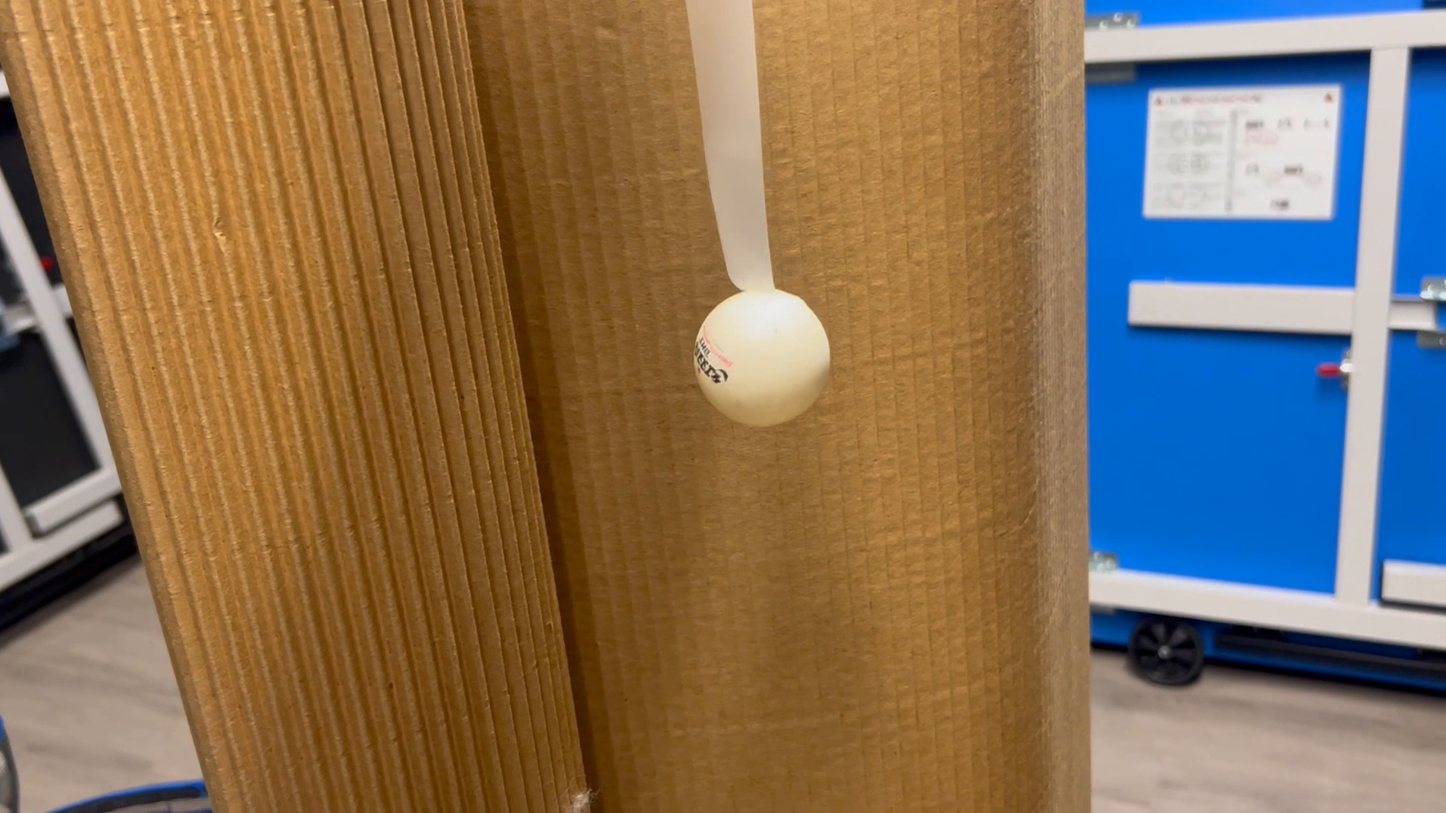Ball: (667, 283, 861, 430)
